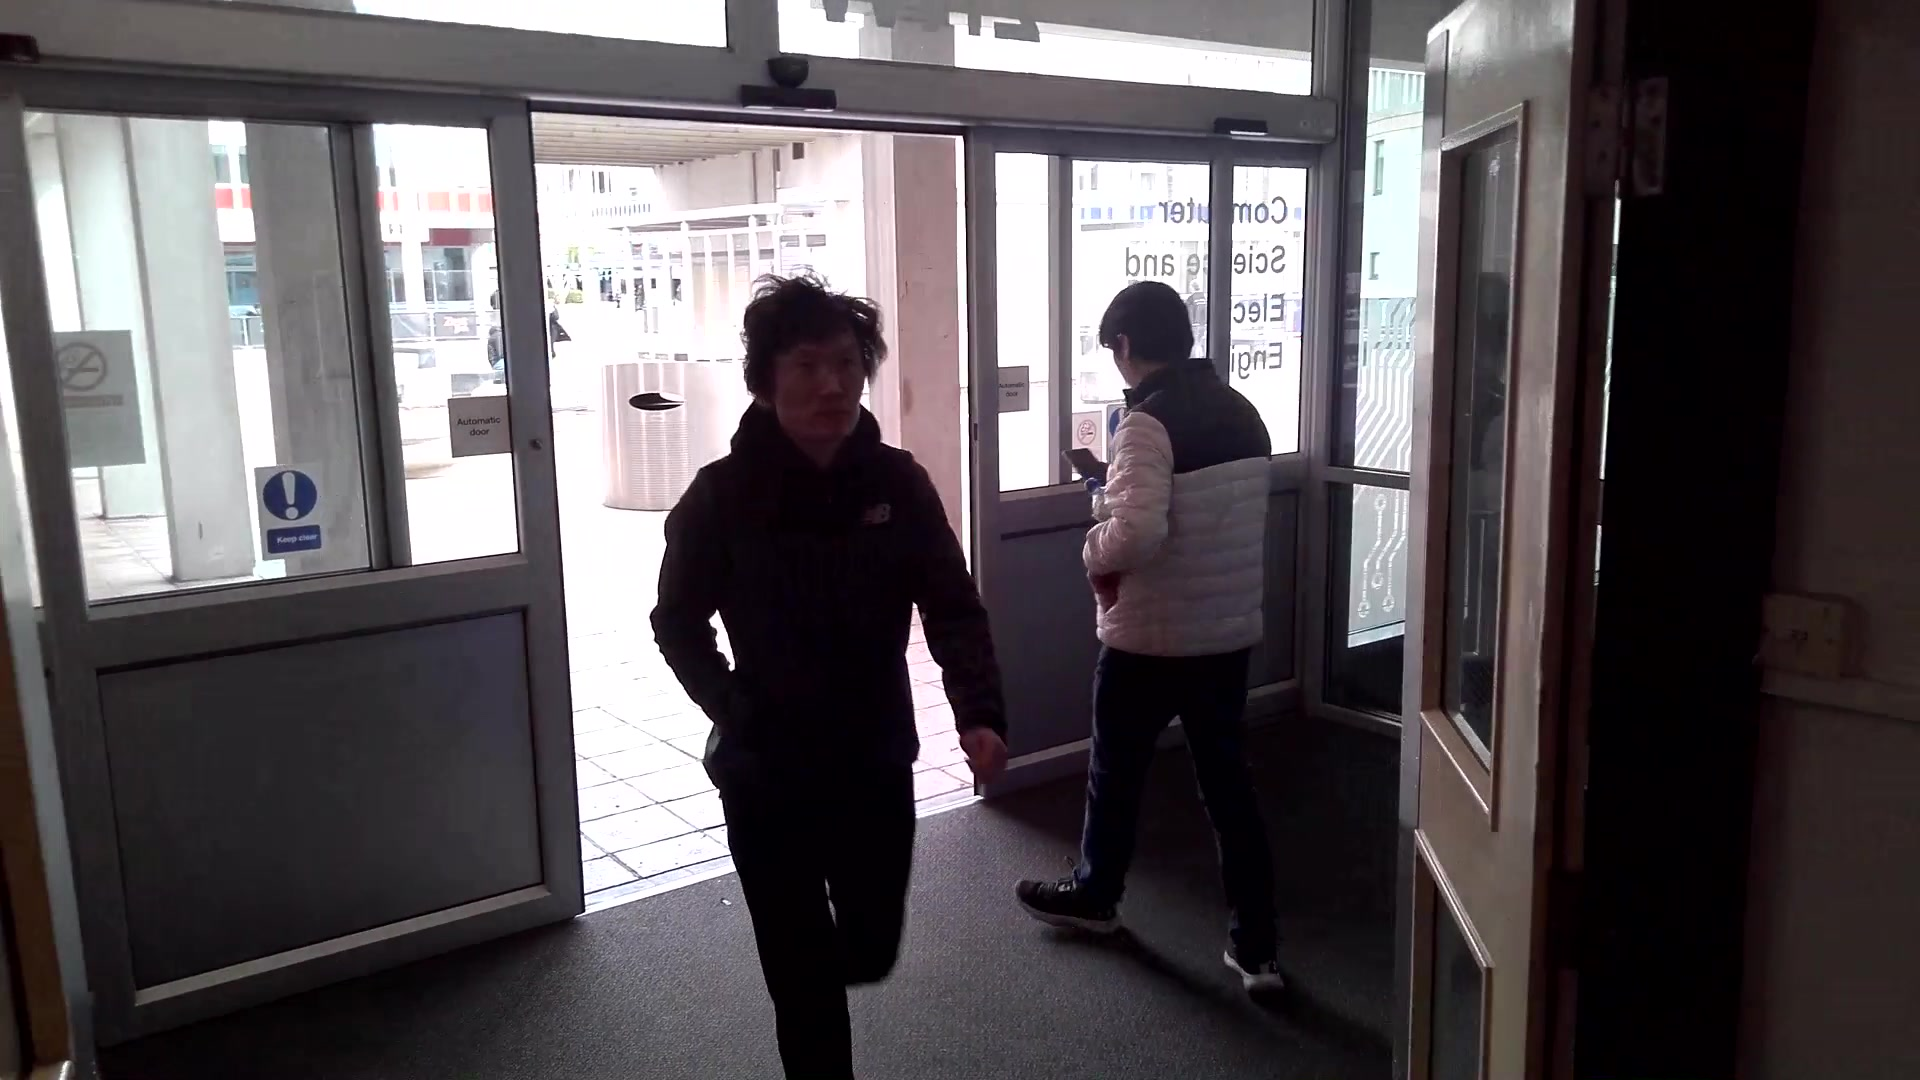Person: (706, 283, 985, 1080), (1073, 279, 1288, 974)
